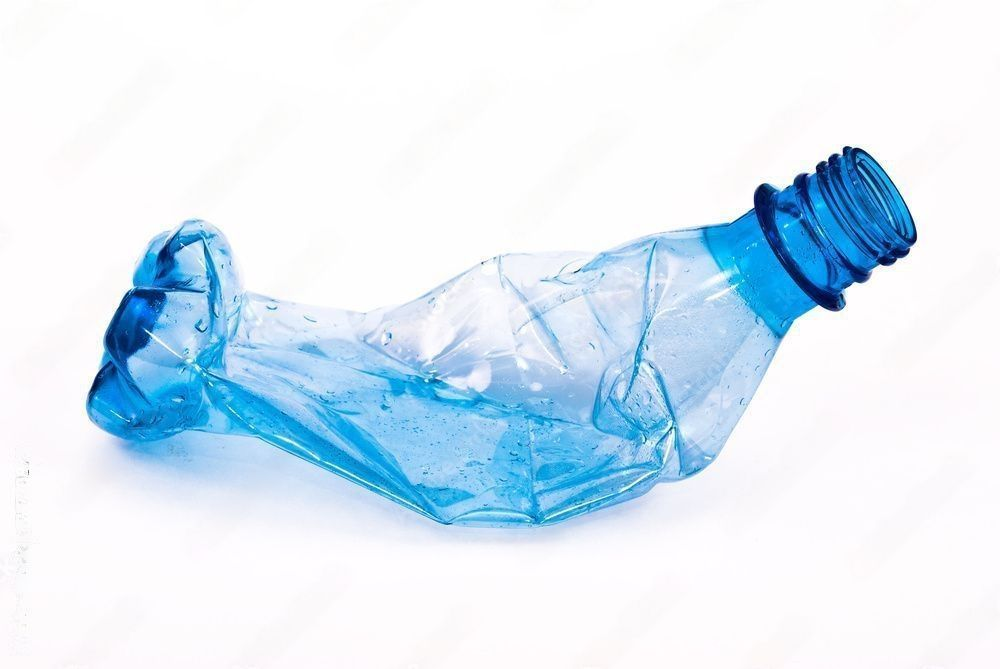plastic_bottle: (86, 145, 917, 526)
